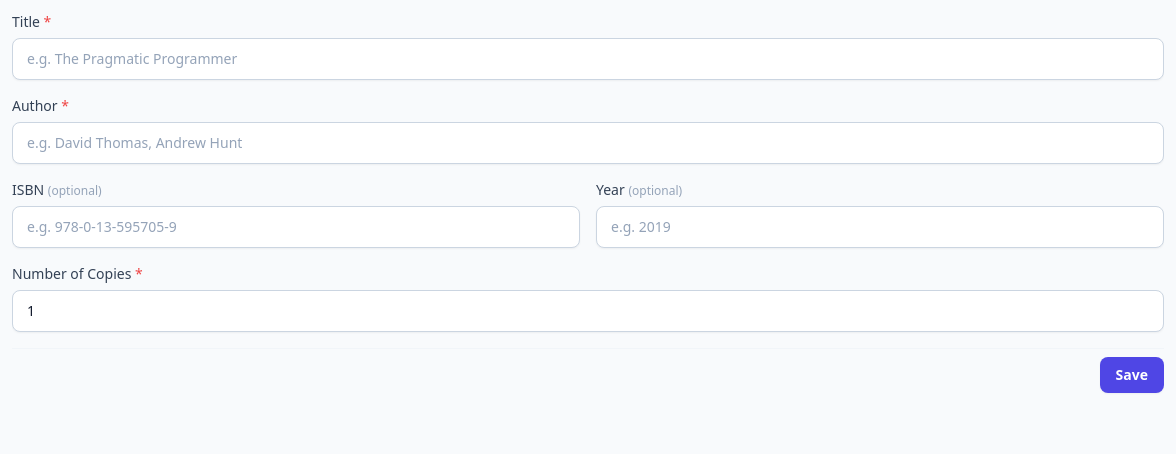
BookForm › shows validation error when title is empty on submit
The image size is (1176, 454).
Click the button "Save" at (1132, 375), box [1100,357,1164,393]
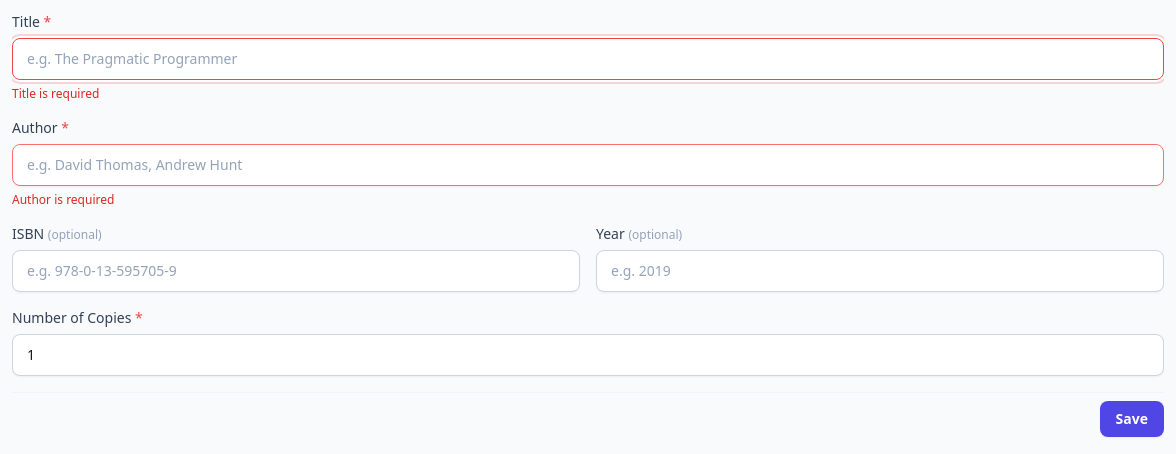
expect the text "Title is required" is shown: met, box [12,85,99,102]
